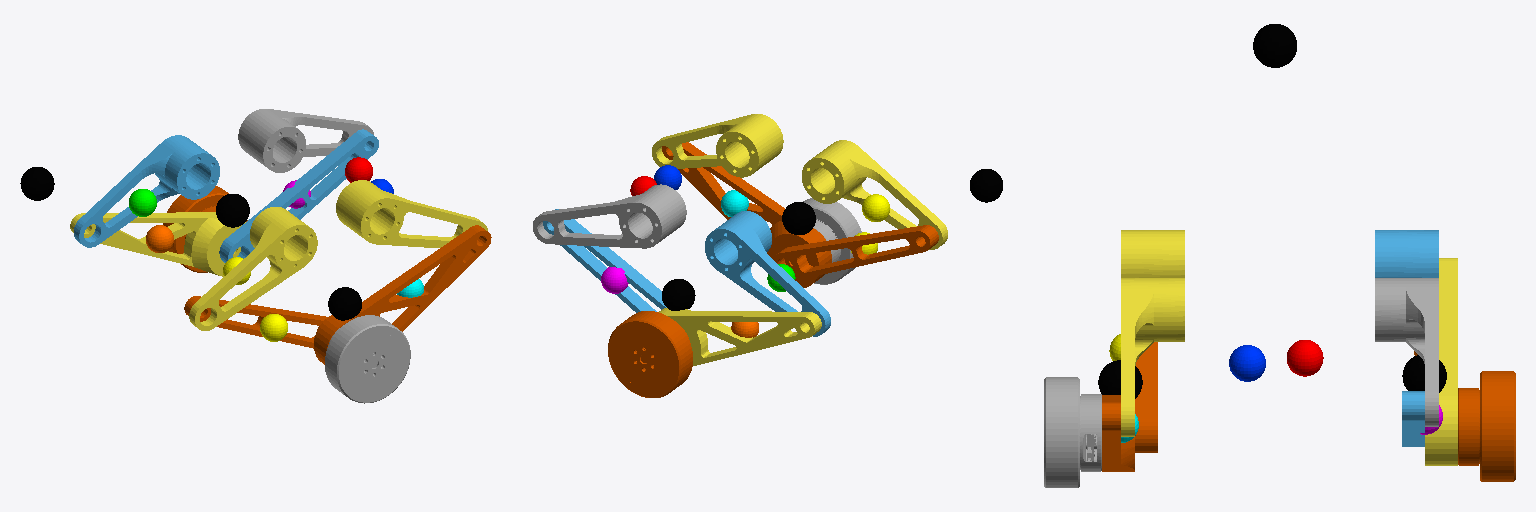
URDF robot description (wheel_leg_robot):
<?xml version="1.0"?>
<robot name="wheel_leg_robot">

  <!-- ================= materials ================= -->
  <material name="base_gray">
    <color rgba="0.65 0.65 0.65 1"/>
  </material>

  <material name="label_red">
    <color rgba="1 0 0 1"/>
  </material>

  <material name="label_green">
    <color rgba="0 1 0 1"/>
  </material>

  <material name="label_blue">
    <color rgba="0 0.25 1 1"/>
  </material>

  <material name="label_yellow">
    <color rgba="1 1 0 1"/>
  </material>

  <material name="label_magenta">
    <color rgba="1 0 1 1"/>
  </material>

  <material name="label_cyan">
    <color rgba="0 1 1 1"/>
  </material>

  <material name="label_orange">
    <color rgba="1 0.45 0 1"/>
  </material>

  <material name="label_black">
    <color rgba="0.02 0.02 0.02 1"/>
  </material>


  <!-- ================= world ================= -->
  <link name="world"/>


  <!-- ================= base ================= -->
  <link name="base_link">
    <visual>
      <origin xyz="0 0 0" rpy="0 1.5708 0"/>
      <geometry>
        <mesh filename="package://wheel_leg_description/meshes/visual/shell_and_big_motor.stl"
              scale="0.001 0.001 0.001"/>
      </geometry>
      <material name="base_gray"/>
    </visual>
  </link>

  <joint name="world_to_base" type="fixed">
    <parent link="world"/>
    <child link="base_link"/>
    <origin xyz="0 0 0" rpy="0 0 0"/>
  </joint>


  <!-- base label -->
  <link name="LABEL_0_BASE">
    <visual>
      <geometry>
        <sphere radius="0.012"/>
      </geometry>
      <material name="label_black"/>
    </visual>
  </link>

  <joint name="label_0_base_joint" type="fixed">
    <parent link="base_link"/>
    <child link="LABEL_0_BASE"/>
    <origin xyz="0 0 0.080" rpy="0 0 0"/>
  </joint>


  <!-- ========================================================= -->
  <!-- big_arm_1_joint: blue big arm -> cyan small_leg_wheel_2 -> wheel_motor_2 -->
  <!-- ========================================================= -->

  <link name="big_arm_1_link">
    <visual>
      <origin xyz="-0.231306 -0.053564 -0.030643" rpy="0 1.5708 0"/>
      <geometry>
        <mesh filename="package://wheel_leg_description/meshes/visual/big_arm_1.stl"
              scale="0.001 0.001 0.001"/>
      </geometry>
    </visual>
  </link>

  <joint name="big_arm_1_joint" type="revolute">
    <parent link="base_link"/>
    <child link="big_arm_1_link"/>
    <origin xyz="0.231306 0.053564 0.030643" rpy="0 0 0"/>
    <axis xyz="0 1 0"/>
    <limit lower="-1.57" upper="1.57" effort="20" velocity="10"/>
  </joint>

  <link name="LABEL_1_BLUE_BIG_ARM">
    <visual>
      <geometry>
        <sphere radius="0.010"/>
      </geometry>
      <material name="label_blue"/>
    </visual>
  </link>

  <joint name="label_1_blue_big_arm_joint" type="fixed">
    <parent link="big_arm_1_link"/>
    <child link="LABEL_1_BLUE_BIG_ARM"/>
    <origin xyz="0.037350 -0.068500 -0.014319" rpy="0 0 0"/>
  </joint>


  <link name="small_leg_wheel_2_link">
    <visual>
      <origin xyz="-0.306005 0.083436 -0.002006" rpy="0 1.5708 0"/>
      <geometry>
        <mesh filename="package://wheel_leg_description/meshes/visual/small_leg_wheel_2.stl"
              scale="0.001 0.001 0.001"/>
      </geometry>
    </visual>
  </link>

  <joint name="knee_1_joint" type="revolute">
    <parent link="big_arm_1_link"/>
    <child link="small_leg_wheel_2_link"/>
    <origin xyz="0.074699 -0.137000 -0.028637" rpy="0 0 0"/>
    <axis xyz="0 1 0"/>
    <limit lower="-2.5" upper="2.5" effort="20" velocity="10"/>
  </joint>

  <link name="LABEL_6_CYAN_SMALL_LEG_WHEEL">
    <visual>
      <geometry>
        <sphere radius="0.010"/>
      </geometry>
      <material name="label_cyan"/>
    </visual>
  </link>

  <joint name="label_6_cyan_small_leg_wheel_joint" type="fixed">
    <parent link="small_leg_wheel_2_link"/>
    <child link="LABEL_6_CYAN_SMALL_LEG_WHEEL"/>
    <origin xyz="-0.052399 0 -0.029230" rpy="0 0 0"/>
  </joint>


  <link name="wheel_motor_2_link">
    <visual>
      <origin xyz="-0.201207 0.083436 0.056453" rpy="0 1.5708 0"/>
      <geometry>
        <mesh filename="package://wheel_leg_description/meshes/visual/wheel_motor_2.stl"
              scale="0.001 0.001 0.001"/>
      </geometry>
    </visual>
  </link>

  <joint name="wheel_2_joint" type="continuous">
    <parent link="small_leg_wheel_2_link"/>
    <child link="wheel_motor_2_link"/>
    <origin xyz="-0.104798 0 -0.058459" rpy="0 0 0"/>
    <axis xyz="0 1 0"/>
  </joint>

  <link name="LABEL_10_BLACK_WHEEL_MOTOR">
    <visual>
      <geometry>
        <sphere radius="0.012"/>
      </geometry>
      <material name="label_black"/>
    </visual>
  </link>

  <joint name="label_10_black_wheel_motor_joint" type="fixed">
    <parent link="wheel_motor_2_link"/>
    <child link="LABEL_10_BLACK_WHEEL_MOTOR"/>
    <origin xyz="0 0 0.030" rpy="0 0 0"/>
  </joint>


  <!-- ========================================================= -->
  <!-- big_arm_2_joint: green big arm -> orange small_leg_wheel_1 -> wheel_motor_1 -->
  <!-- ========================================================= -->

  <link name="big_arm_2_link">
    <visual>
      <origin xyz="-0.161440 -0.053564 -0.026313" rpy="0 1.5708 0"/>
      <geometry>
        <mesh filename="package://wheel_leg_description/meshes/visual/big_arm_2.stl"
              scale="0.001 0.001 0.001"/>
      </geometry>
    </visual>
  </link>

  <joint name="big_arm_2_joint" type="revolute">
    <parent link="base_link"/>
    <child link="big_arm_2_link"/>
    <origin xyz="0.161440 0.053564 0.026313" rpy="0 0 0"/>
    <axis xyz="0 1 0"/>
    <limit lower="-1.57" upper="1.57" effort="20" velocity="10"/>
  </joint>

  <link name="LABEL_2_GREEN_BIG_ARM">
    <visual>
      <geometry>
        <sphere radius="0.010"/>
      </geometry>
      <material name="label_green"/>
    </visual>
  </link>

  <joint name="label_2_green_big_arm_joint" type="fixed">
    <parent link="big_arm_2_link"/>
    <child link="LABEL_2_GREEN_BIG_ARM"/>
    <origin xyz="-0.035071 0.017500 -0.019237" rpy="0 0 0"/>
  </joint>


  <link name="small_leg_wheel_1_link">
    <visual>
      <origin xyz="-0.091299 -0.088564 0.012160" rpy="0 1.5708 0"/>
      <geometry>
        <mesh filename="package://wheel_leg_description/meshes/visual/small_leg_wheel_1.stl"
              scale="0.001 0.001 0.001"/>
      </geometry>
    </visual>
  </link>

  <joint name="knee_2_joint" type="revolute">
    <parent link="big_arm_2_link"/>
    <child link="small_leg_wheel_1_link"/>
    <origin xyz="-0.070141 0.035000 -0.038473" rpy="0 0 0"/>
    <axis xyz="0 1 0"/>
    <limit lower="-2.5" upper="2.5" effort="20" velocity="10"/>
  </joint>

  <link name="LABEL_5_ORANGE_SMALL_LEG_WHEEL">
    <visual>
      <geometry>
        <sphere radius="0.010"/>
      </geometry>
      <material name="label_orange"/>
    </visual>
  </link>

  <joint name="label_5_orange_small_leg_wheel_joint" type="fixed">
    <parent link="small_leg_wheel_1_link"/>
    <child link="LABEL_5_ORANGE_SMALL_LEG_WHEEL"/>
    <origin xyz="0.056761 -0.004000 -0.019449" rpy="0 0 0"/>
  </joint>


  <link name="wheel_motor_1_link">
    <visual>
      <origin xyz="-0.204820 -0.080564 0.051057" rpy="0 1.5708 0"/>
      <geometry>
        <mesh filename="package://wheel_leg_description/meshes/visual/wheel_motor_1.stl"
              scale="0.001 0.001 0.001"/>
      </geometry>
    </visual>
  </link>

  <joint name="wheel_1_joint" type="continuous">
    <parent link="small_leg_wheel_1_link"/>
    <child link="wheel_motor_1_link"/>
    <origin xyz="0.113521 -0.008000 -0.038897" rpy="0 0 0"/>
    <axis xyz="0 1 0"/>
  </joint>

  <link name="LABEL_9_BLACK_WHEEL_MOTOR">
    <visual>
      <geometry>
        <sphere radius="0.012"/>
      </geometry>
      <material name="label_black"/>
    </visual>
  </link>

  <joint name="label_9_black_wheel_motor_joint" type="fixed">
    <parent link="wheel_motor_1_link"/>
    <child link="LABEL_9_BLACK_WHEEL_MOTOR"/>
    <origin xyz="0 0 0.030" rpy="0 0 0"/>
  </joint>


  <!-- ========================================================= -->
  <!-- big_arm_3_joint: red big arm -> magenta small_leggy_1 -->
  <!-- ========================================================= -->

  <link name="big_arm_3_link">
    <visual>
      <origin xyz="-0.231306 0.048436 -0.030643" rpy="0 1.5708 0"/>
      <geometry>
        <mesh filename="package://wheel_leg_description/meshes/visual/big_arm_3.stl"
              scale="0.001 0.001 0.001"/>
      </geometry>
    </visual>
  </link>

  <joint name="big_arm_3_joint" type="revolute">
    <parent link="base_link"/>
    <child link="big_arm_3_link"/>
    <origin xyz="0.231306 -0.048436 0.030643" rpy="0 0 0"/>
    <axis xyz="0 1 0"/>
    <limit lower="-1.57" upper="1.57" effort="20" velocity="10"/>
  </joint>

  <link name="LABEL_3_RED_BIG_ARM">
    <visual>
      <geometry>
        <sphere radius="0.010"/>
      </geometry>
      <material name="label_red"/>
    </visual>
  </link>

  <joint name="label_3_red_big_arm_joint" type="fixed">
    <parent link="big_arm_3_link"/>
    <child link="LABEL_3_RED_BIG_ARM"/>
    <origin xyz="0.038571 0.064500 -0.010596" rpy="0 0 0"/>
  </joint>


  <link name="small_leggy_1_link">
    <visual>
      <origin xyz="-0.308448 -0.080564 -0.009451" rpy="0 1.5708 0"/>
      <geometry>
        <mesh filename="package://wheel_leg_description/meshes/visual/small_leggy_1.stl"
              scale="0.001 0.001 0.001"/>
      </geometry>
    </visual>
  </link>

  <joint name="knee_3_joint" type="revolute">
    <parent link="big_arm_3_link"/>
    <child link="small_leggy_1_link"/>
    <origin xyz="0.077142 0.129000 -0.021192" rpy="0 0 0"/>
    <axis xyz="0 1 0"/>
    <limit lower="-2.5" upper="2.5" effort="20" velocity="10"/>
  </joint>

  <link name="LABEL_7_MAGENTA_SMALL_LEGGY">
    <visual>
      <geometry>
        <sphere radius="0.010"/>
      </geometry>
      <material name="label_magenta"/>
    </visual>
  </link>

  <joint name="label_7_magenta_small_leggy_joint" type="fixed">
    <parent link="small_leggy_1_link"/>
    <child link="LABEL_7_MAGENTA_SMALL_LEGGY"/>
    <origin xyz="-0.051814 0 -0.030254" rpy="0 0 0"/>
  </joint>


  <!-- ========================================================= -->
  <!-- big_arm_4_joint: yellow big arm -> yellow small_leggy_2 -->
  <!-- ========================================================= -->

  <link name="big_arm_4_link">
    <visual>
      <origin xyz="-0.161440 0.048436 -0.026313" rpy="0 1.5708 0"/>
      <geometry>
        <mesh filename="package://wheel_leg_description/meshes/visual/big_arm_4.stl"
              scale="0.001 0.001 0.001"/>
      </geometry>
    </visual>
  </link>

  <joint name="big_arm_4_joint" type="revolute">
    <parent link="base_link"/>
    <child link="big_arm_4_link"/>
    <origin xyz="0.161440 -0.048436 0.026313" rpy="0 0 0"/>
    <axis xyz="0 1 0"/>
    <limit lower="-1.57" upper="1.57" effort="20" velocity="10"/>
  </joint>

  <link name="LABEL_4_YELLOW_BIG_ARM">
    <visual>
      <geometry>
        <sphere radius="0.010"/>
      </geometry>
      <material name="label_yellow"/>
    </visual>
  </link>

  <joint name="label_4_yellow_big_arm_joint" type="fixed">
    <parent link="big_arm_4_link"/>
    <child link="LABEL_4_YELLOW_BIG_ARM"/>
    <origin xyz="-0.035530 -0.013500 -0.018375" rpy="0 0 0"/>
  </joint>


  <link name="small_leggy_2_link">
    <visual>
      <origin xyz="-0.090381 0.075436 0.010437" rpy="0 1.5708 0"/>
      <geometry>
        <mesh filename="package://wheel_leg_description/meshes/visual/small_leggy_2.stl"
              scale="0.001 0.001 0.001"/>
      </geometry>
    </visual>
  </link>

  <joint name="knee_4_joint" type="revolute">
    <parent link="big_arm_4_link"/>
    <child link="small_leggy_2_link"/>
    <origin xyz="-0.071059 -0.027000 -0.036750" rpy="0 0 0"/>
    <axis xyz="0 1 0"/>
    <limit lower="-2.5" upper="2.5" effort="20" velocity="10"/>
  </joint>

  <link name="LABEL_8_YELLOW_SMALL_LEGGY">
    <visual>
      <geometry>
        <sphere radius="0.010"/>
      </geometry>
      <material name="label_yellow"/>
    </visual>
  </link>

  <joint name="label_8_yellow_small_leggy_joint" type="fixed">
    <parent link="small_leggy_2_link"/>
    <child link="LABEL_8_YELLOW_SMALL_LEGGY"/>
    <origin xyz="0.055413 -0.004000 -0.023008" rpy="0 0 0"/>
  </joint>

</robot>

--- What the picture shows (computed from the rendered views, not written in the file) ---
The picture shows the robot from 3 angles, left to right: view 1: azimuth 30°, elevation 25°; view 2: azimuth 150°, elevation 25°; view 3: azimuth 270°, elevation 25°; orthographic projection.
Robot: wheel_leg_robot — 23 links, 22 joints (8 revolute, 2 continuous, 12 fixed); root link world; default pose: every joint at zero.
Links seen in each view (by area): view 1: big_arm_4_link, wheel_motor_2_link, big_arm_2_link, small_leg_wheel_2_link, big_arm_1_link, big_arm_3_link, small_leg_wheel_1_link, small_leggy_1_link, small_leggy_2_link, wheel_motor_1_link, LABEL_0_BASE, LABEL_9_BLACK_WHEEL_MOTOR (+5 smaller); view 2: wheel_motor_1_link, big_arm_3_link, big_arm_2_link, big_arm_4_link, big_arm_1_link, small_leg_wheel_1_link, small_leg_wheel_2_link, small_leggy_2_link, small_leggy_1_link, wheel_motor_2_link, LABEL_10_BLACK_WHEEL_MOTOR, LABEL_0_BASE (+4 smaller); view 3: wheel_motor_2_link, wheel_motor_1_link, big_arm_1_link, big_arm_3_link, small_leg_wheel_1_link, big_arm_2_link, big_arm_4_link, small_leggy_2_link, small_leg_wheel_2_link, LABEL_0_BASE, small_leggy_1_link, LABEL_1_BLUE_BIG_ARM (+3 smaller).
Link boxes in pixels (x1,y1,x2,y2): big_arm_4_link: (189, 207, 317, 330); wheel_motor_2_link: (325, 315, 410, 403); big_arm_2_link: (74, 135, 219, 247); small_leg_wheel_2_link: (314, 225, 491, 364); big_arm_1_link: (336, 180, 487, 247); big_arm_3_link: (238, 109, 373, 172); small_leg_wheel_1_link: (70, 212, 245, 276); small_leggy_1_link: (219, 129, 378, 262); small_leggy_2_link: (184, 296, 327, 348); wheel_motor_1_link: (163, 186, 247, 272); LABEL_0_BASE: (20, 167, 54, 200); LABEL_9_BLACK_WHEEL_MOTOR: (216, 194, 249, 227); wheel_motor_1_link: (608, 311, 692, 397); big_arm_3_link: (533, 184, 686, 248); big_arm_2_link: (705, 211, 830, 336); big_arm_4_link: (802, 140, 947, 249); big_arm_1_link: (652, 114, 783, 177); small_leg_wheel_1_link: (659, 308, 821, 365); small_leg_wheel_2_link: (662, 142, 831, 287); small_leggy_2_link: (773, 225, 938, 280); small_leggy_1_link: (543, 209, 666, 312); wheel_motor_2_link: (803, 198, 861, 284); LABEL_10_BLACK_WHEEL_MOTOR: (782, 202, 815, 234); LABEL_0_BASE: (970, 169, 1002, 202); wheel_motor_2_link: (1044, 377, 1101, 487); wheel_motor_1_link: (1458, 371, 1515, 481); big_arm_1_link: (1121, 278, 1184, 436); big_arm_3_link: (1375, 278, 1438, 426); small_leg_wheel_1_link: (1425, 258, 1457, 465); big_arm_2_link: (1375, 230, 1438, 277); big_arm_4_link: (1121, 230, 1184, 277); small_leggy_2_link: (1135, 342, 1157, 452); small_leg_wheel_2_link: (1102, 395, 1134, 471); LABEL_0_BASE: (1253, 24, 1296, 67); small_leggy_1_link: (1402, 391, 1424, 446); LABEL_1_BLUE_BIG_ARM: (1229, 345, 1265, 381).
Bounding box of the posed robot: 0.3314 × 0.254 × 0.1784 m (x, y, z).
10 mesh visuals loaded from 11 distinct referenced files (10 binary STL); not drawn: 1 (reference not matched to a file when rendering).
